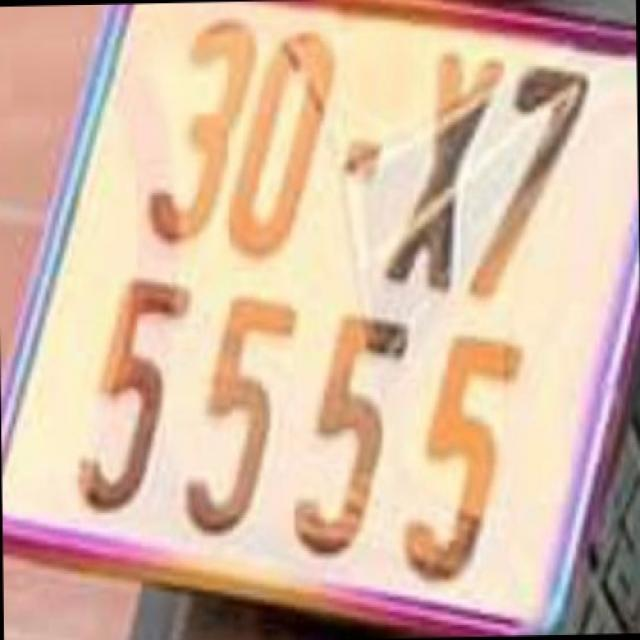0: (231, 20, 325, 264)
3: (138, 13, 250, 249)
5: (406, 328, 524, 586), (294, 308, 404, 561), (184, 288, 294, 538), (77, 272, 187, 516)
7: (480, 39, 598, 302)
K: (384, 39, 494, 297)
